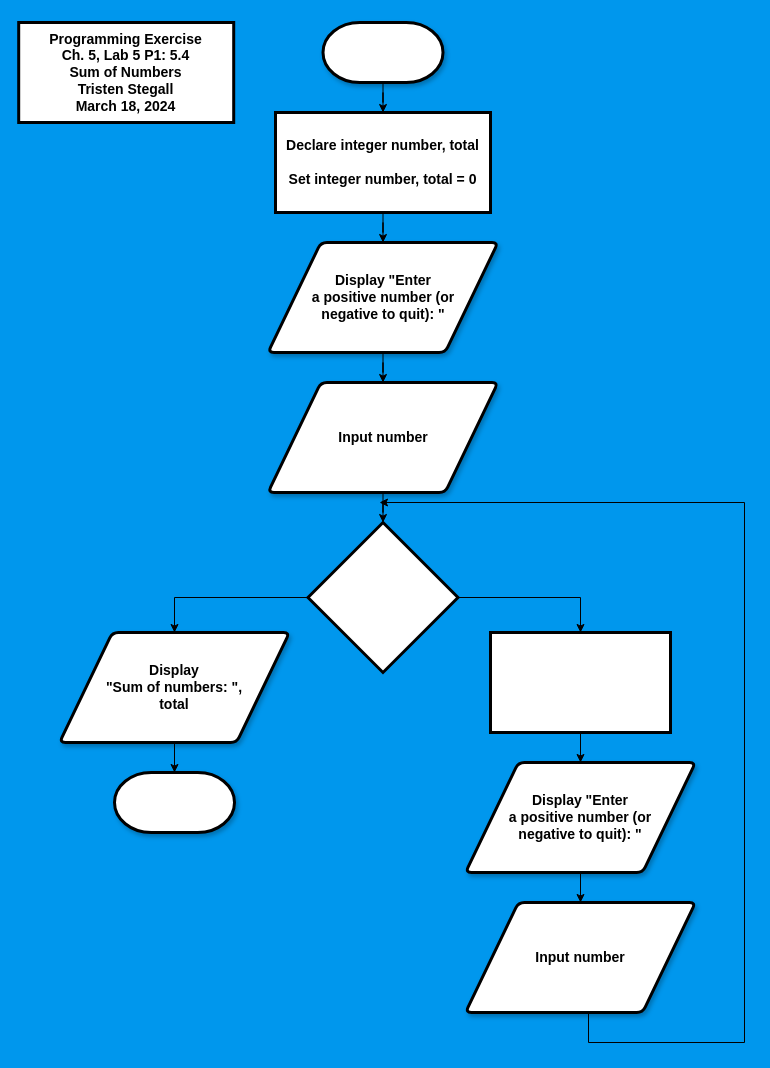
Image size: 770x1068. Some labels were removed from this diagram. The shapes that lost their labels are listed below. From the top down, each one's centre as x and y in pixels, then its label:
At pixel 383 53: "Start".
At pixel 382 597: "number >= 0".
At pixel 580 682: "Set total = total + number".
At pixel 175 803: "End".
